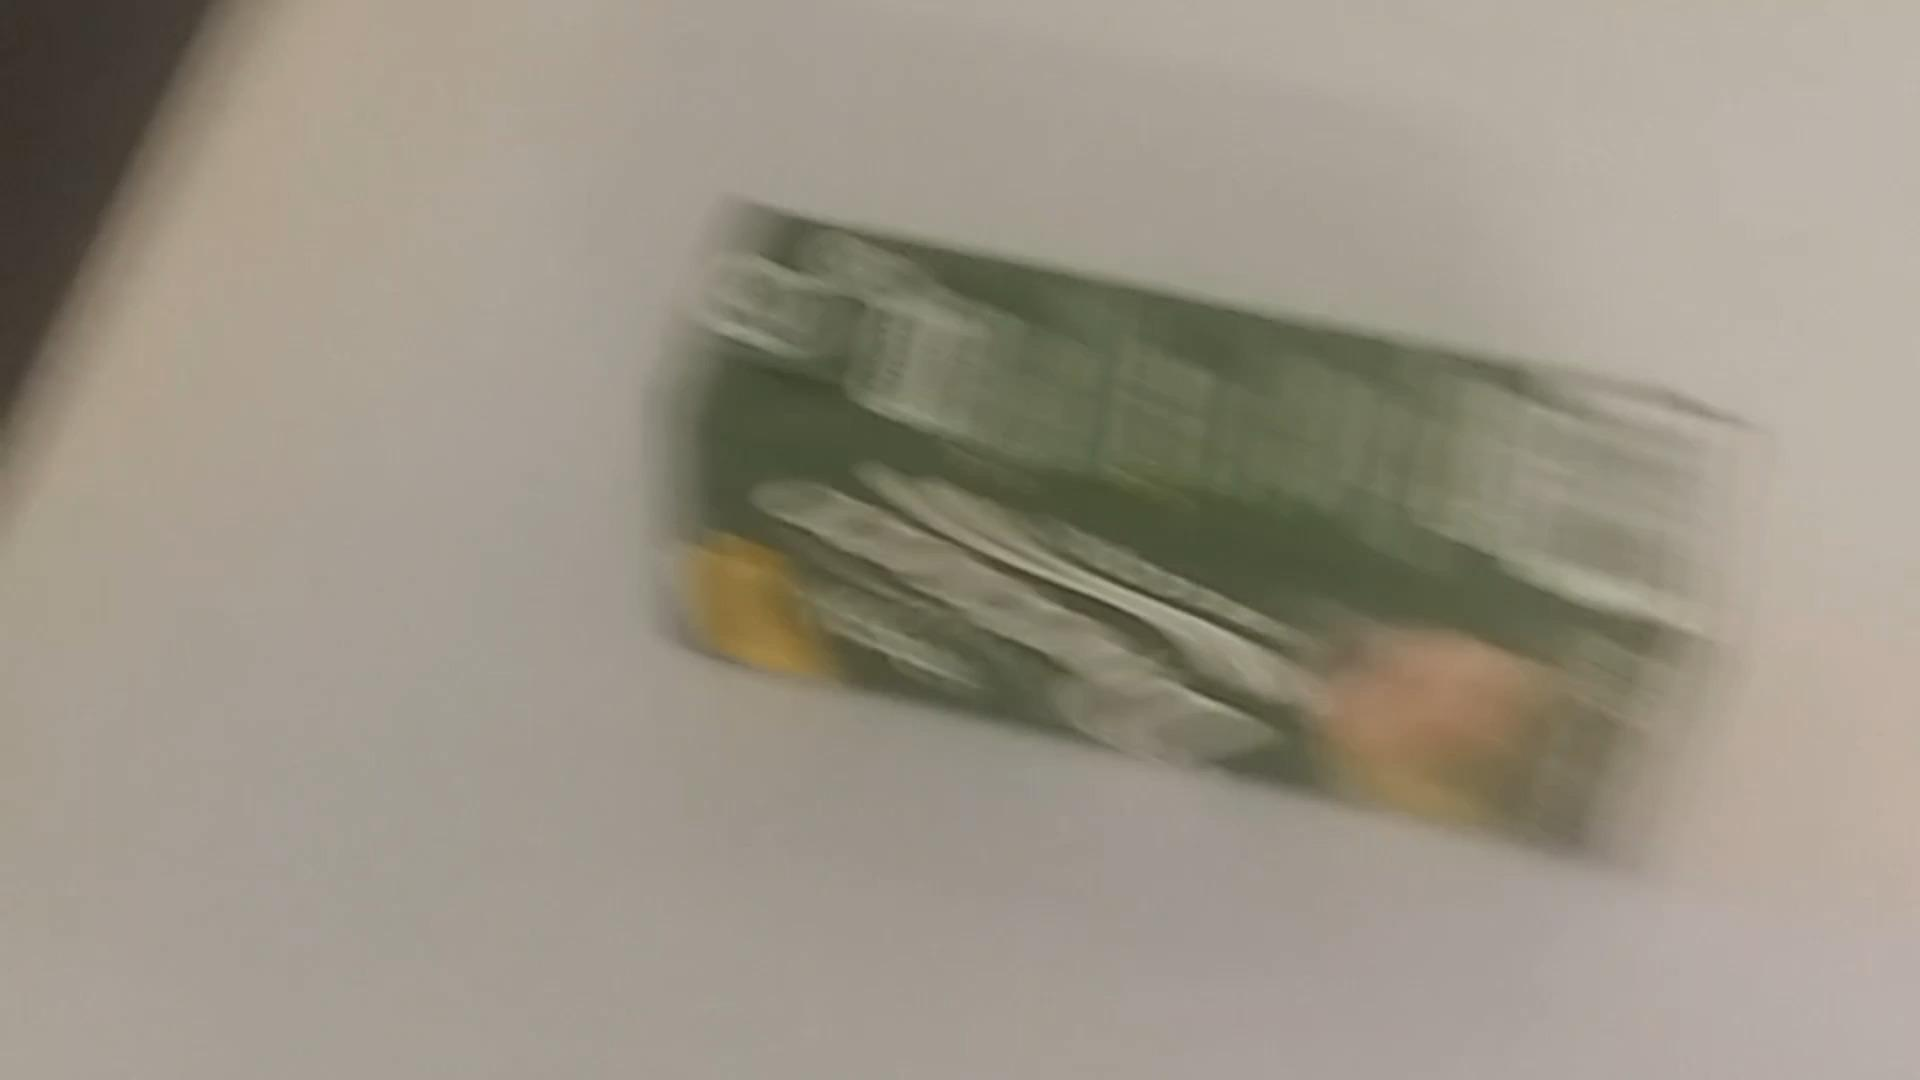coco: (650, 162, 1733, 868)
